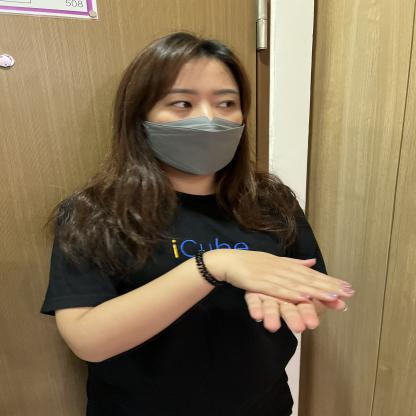Love: (115, 195, 397, 356)
